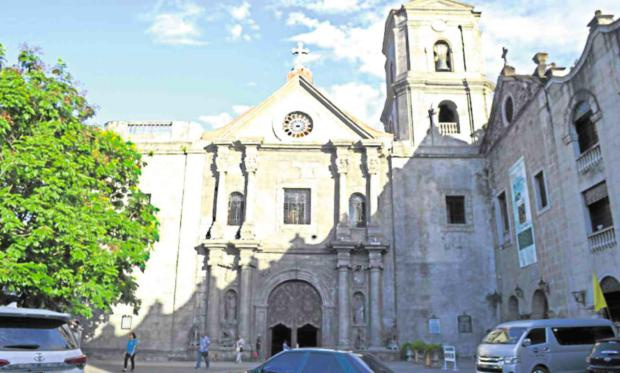san_agustin_church_intramuros_manila: (202, 2, 500, 360)
